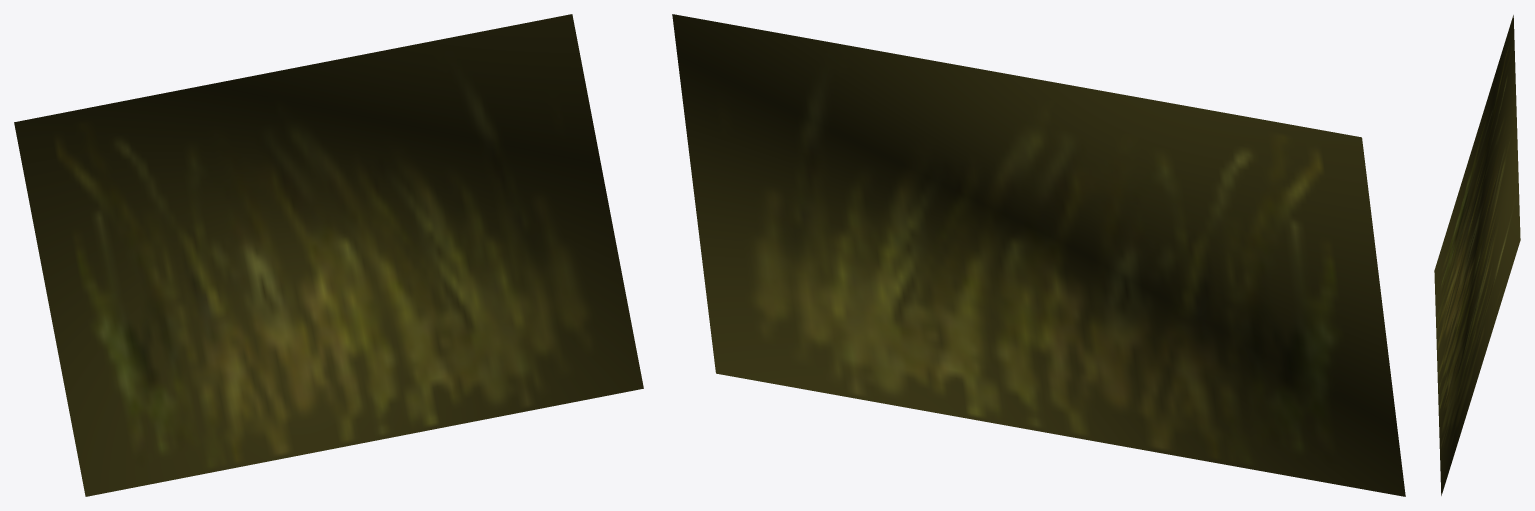
File: yz_cao_test1.fbx
The picture shows the model from 3 angles, left to right: view 1: azimuth 30°, elevation 25°; view 2: azimuth 150°, elevation 25°; view 3: azimuth 270°, elevation 25°; orthographic projection. The views are drawn at different scales.
Parts seen in each view (by area): view 1: yz_cao1; view 2: yz_cao1; view 3: yz_cao1.
Boxes of the visible parts, box(x1,y1,x2,y2) form: yz_cao1: box(14, 14, 643, 496); yz_cao1: box(672, 14, 1405, 496); yz_cao1: box(1434, 15, 1520, 495).
Bounding box in the file's own units: 389 × 238 × 67.74.
